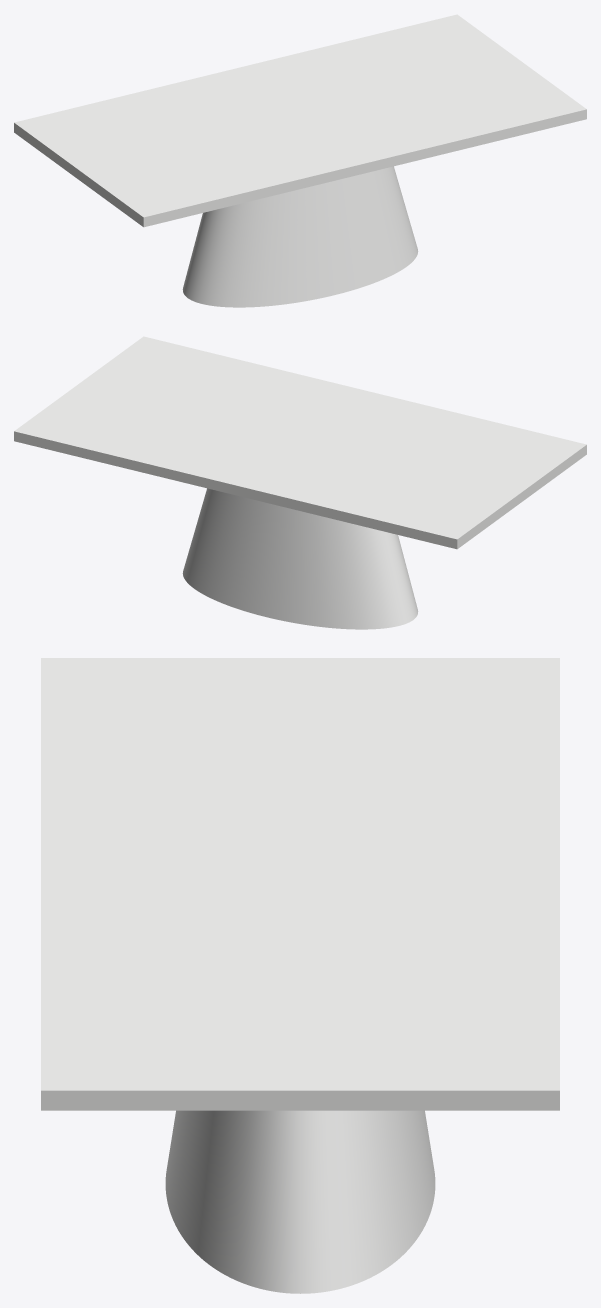
The model's file is purewhite_recta_standard_eqone.glb.
3 views of the same model, one above another, from view 1: azimuth 30°, elevation 25°; view 2: azimuth 150°, elevation 25°; view 3: azimuth 270°, elevation 25° (orthographic). The views are drawn at different scales.
Visible parts, largest first — view 1: standard_recta, eqone; view 2: standard_recta, eqone; view 3: standard_recta, eqone.
Boxes of the visible parts, left/top/right/bottom form: standard_recta: left=14, top=14, right=586, bottom=227; eqone: left=182, top=166, right=418, bottom=307; standard_recta: left=14, top=336, right=586, bottom=549; eqone: left=182, top=488, right=418, bottom=629; standard_recta: left=41, top=658, right=559, bottom=1110; eqone: left=165, top=1110, right=435, bottom=1293.
Size of the model in its own units: 7.5 by 2.5 by 3.8.
1 material, 1 textured.
